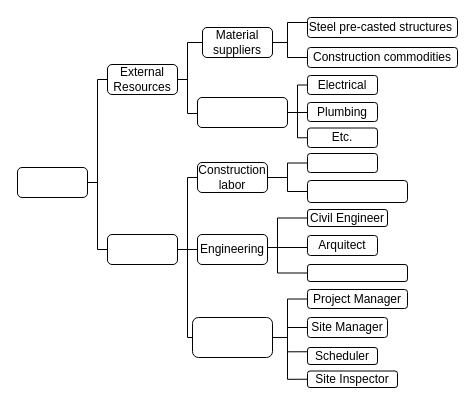
The diagram is 475 pixels wide and 405 high, and some of its shapes have lost their labels. The centre of each missing label's shape, as x and y in pixels:
Foreman: pixel 342 162
General Worker: pixel 357 191
Internal Resources: pixel 142 249
Project Engineer: pixel 357 273
Project Management Team: pixel 232 337
Project Resources: pixel 52 182
Subcontractors: pixel 242 112
